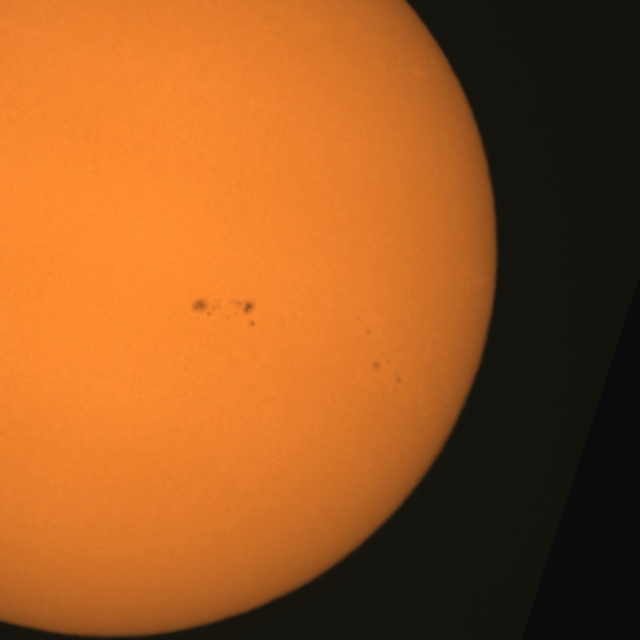sunspot: (193, 294, 260, 326), (370, 356, 404, 390), (354, 314, 374, 336), (392, 371, 405, 393), (370, 358, 386, 374), (365, 328, 373, 337)
